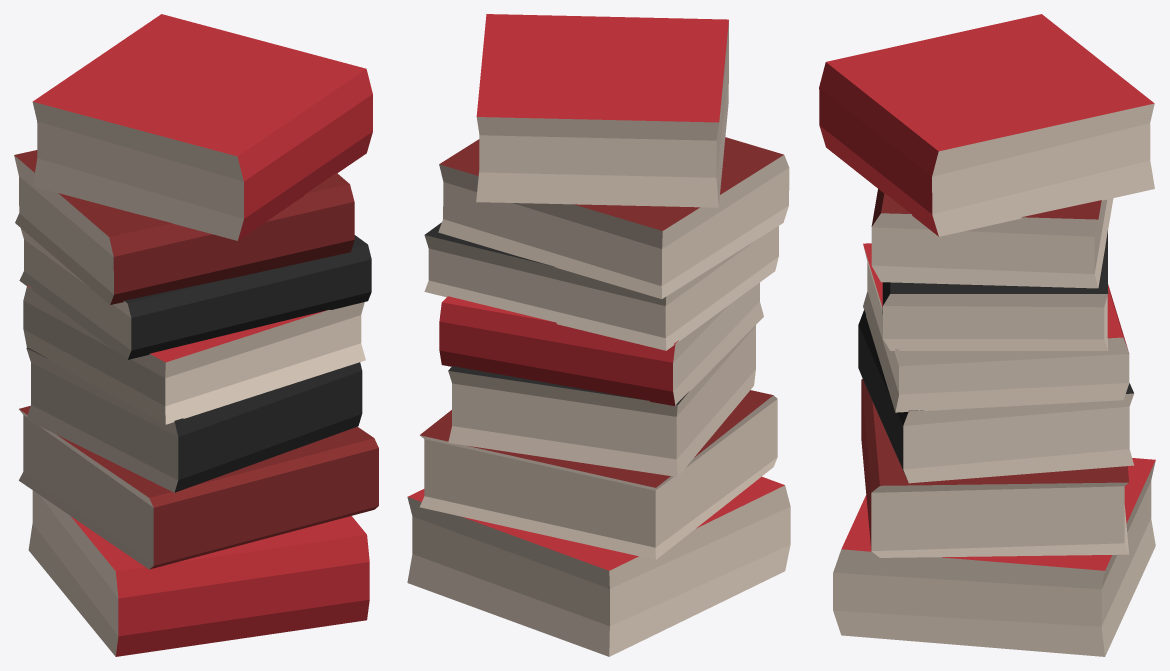
Rendered from books-pile.glb.
3 views of the same model, side by side, from view 1: azimuth 30°, elevation 25°; view 2: azimuth 150°, elevation 25°; view 3: azimuth 270°, elevation 25° (orthographic).
Parts seen in each view (by area): view 1: books-pile; view 2: books-pile; view 3: books-pile.
Part boxes in pixels (x1,y1,x2,y2): books-pile: (14,14,378,656); books-pile: (407,14,790,656); books-pile: (819,14,1155,656).
Bounding box in the file's own units: 0.4818 × 0.8117 × 0.488.
1 material, 1 textured.
